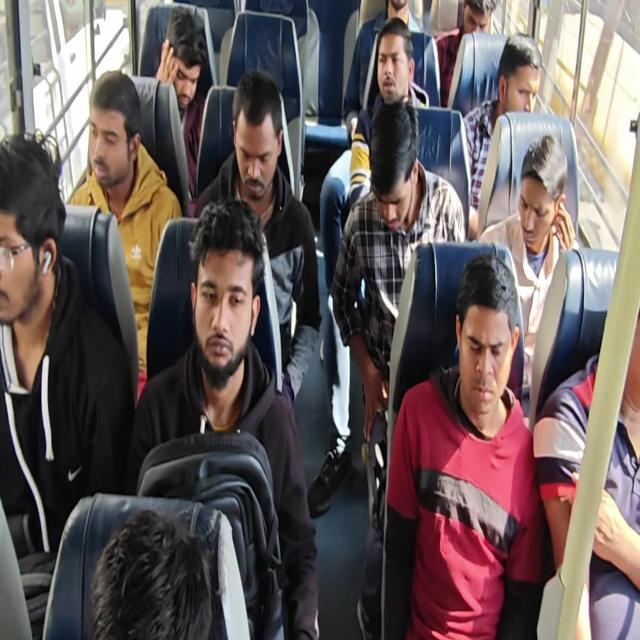person: (1, 2, 638, 638), (128, 196, 320, 638), (329, 96, 466, 637), (382, 252, 545, 638), (307, 10, 430, 516), (0, 128, 135, 558), (193, 69, 321, 406), (66, 69, 183, 401), (533, 304, 639, 639), (319, 17, 429, 290), (476, 132, 578, 406), (88, 507, 222, 639), (460, 32, 543, 238), (154, 6, 210, 206), (343, 0, 423, 138), (435, 0, 496, 107)
